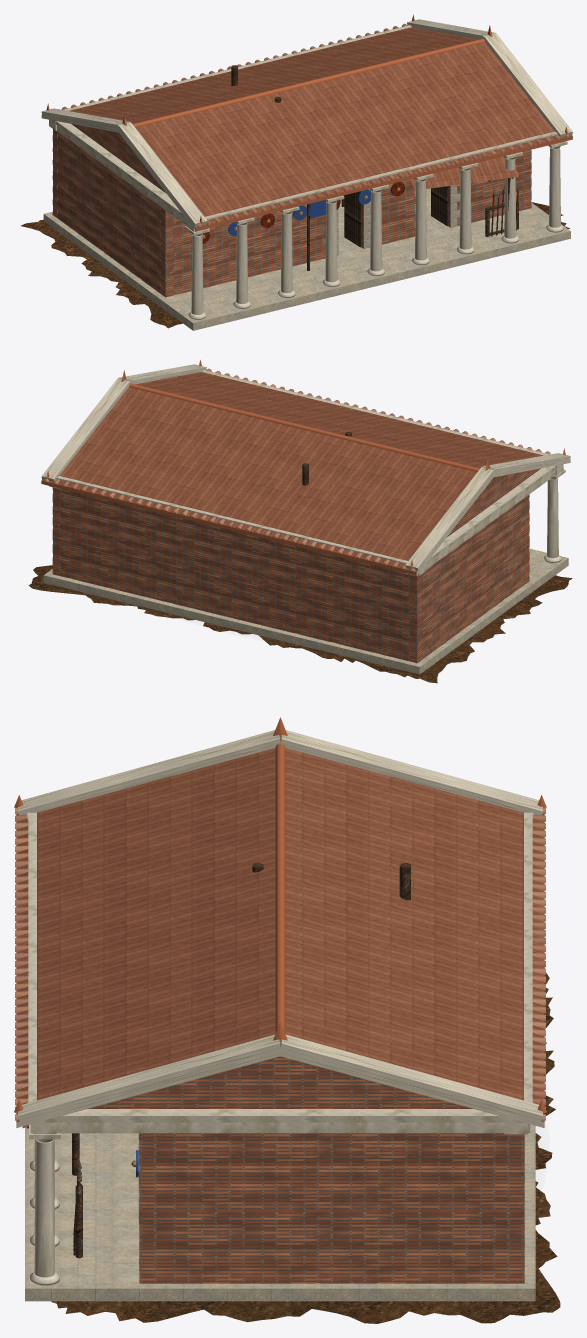
File: barracks@2.glb
3 renders of one model, top to bottom at view 1: azimuth 30°, elevation 25°; view 2: azimuth 150°, elevation 25°; view 3: azimuth 270°, elevation 25°, orthographic. The views are drawn at different scales.
Parts seen in each view (by area): view 1: part_15, part_4, part_17, part_5, part_19, part_6, part_1, part_20, part_13, part_16; view 2: part_15, part_4, part_17, part_5, part_1, part_19, part_20; view 3: part_15, part_4, part_17, part_5, part_1, part_20, part_19, part_6.
Part boxes in pixels (left/top/right/bottom): part_15: left=69, top=27, right=572, bottom=227; part_4: left=52, top=124, right=531, bottom=297; part_17: left=41, top=19, right=572, bottom=320; part_5: left=43, top=184, right=570, bottom=330; part_19: left=46, top=14, right=572, bottom=231; part_6: left=231, top=65, right=518, bottom=270; part_1: left=20, top=202, right=570, bottom=328; part_20: left=61, top=23, right=570, bottom=227; part_13: left=228, top=189, right=370, bottom=236; part_16: left=202, top=181, right=404, bottom=243; part_15: left=42, top=372, right=543, bottom=571; part_4: left=52, top=468, right=540, bottom=663; part_17: left=41, top=364, right=570, bottom=576; part_5: left=43, top=548, right=568, bottom=674; part_1: left=28, top=565, right=572, bottom=683; part_19: left=41, top=360, right=565, bottom=575; part_20: left=43, top=368, right=550, bottom=571; part_15: left=16, top=748, right=544, bottom=1128; part_4: left=88, top=1056, right=524, bottom=1283; part_17: left=16, top=730, right=544, bottom=1286; part_5: left=25, top=1124, right=535, bottom=1301; part_1: left=51, top=973, right=560, bottom=1323; part_20: left=15, top=808, right=545, bottom=1120; part_19: left=14, top=717, right=546, bottom=1112; part_6: left=27, top=863, right=410, bottom=1258.
Size of the model in its own units: 10.54 by 3.88 by 7.07.
Materials: 21 (13 with a texture image).
